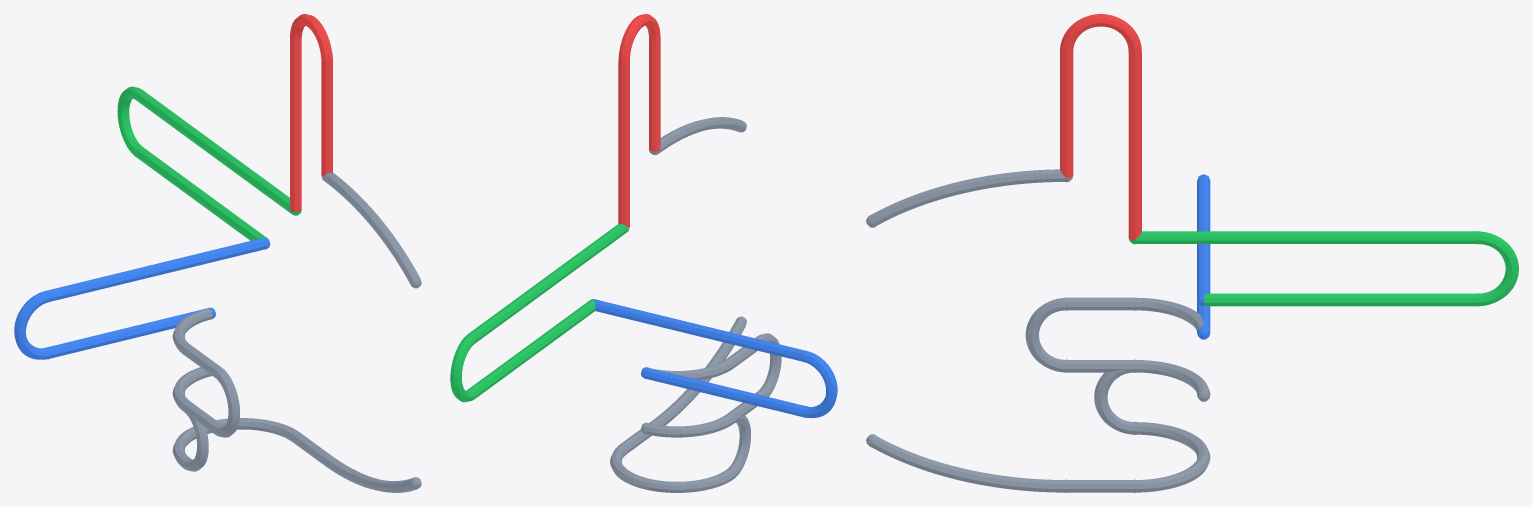
The model's file is hand_right_three-axis_thick-outline-d024_u8_v1.glb.
The picture shows the model from 3 angles, left to right: view 1: azimuth 30°, elevation 25°; view 2: azimuth 150°, elevation 25°; view 3: azimuth 270°, elevation 25°; orthographic projection. The views are drawn at different scales.
Size of the model in its own units: 5.78 by 9.47 by 11.72.
